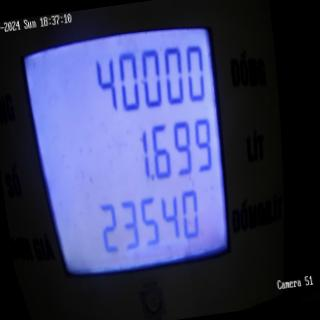screen: (11, 0, 251, 313)
